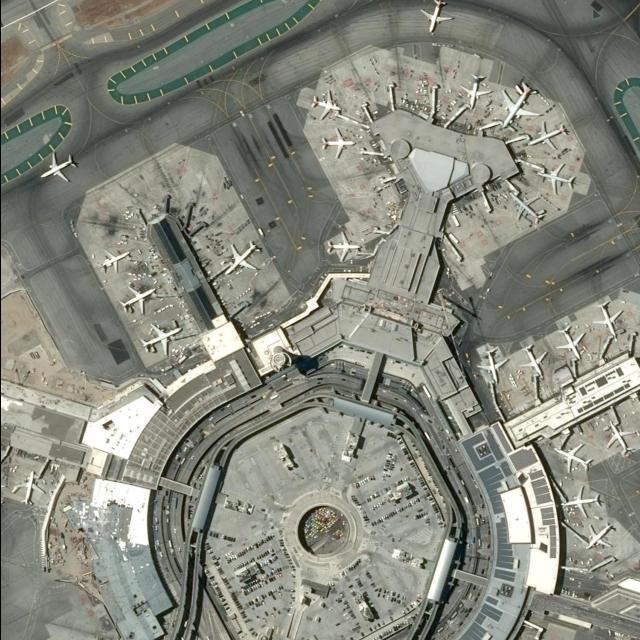Aircraft: (502, 81, 542, 129), (37, 150, 79, 190), (220, 241, 260, 278), (141, 328, 187, 360), (508, 193, 546, 229), (552, 444, 594, 476), (539, 165, 581, 196), (120, 286, 162, 316), (557, 327, 587, 366), (463, 71, 491, 111), (310, 91, 347, 121), (596, 302, 625, 340), (564, 488, 602, 517), (582, 523, 618, 553), (520, 342, 548, 380), (478, 350, 509, 384), (421, 3, 453, 34), (606, 423, 636, 455), (328, 237, 359, 267), (319, 134, 355, 158), (97, 249, 129, 271)
